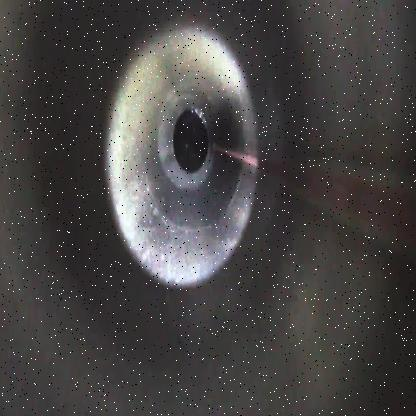NoCrack: (104, 22, 258, 292)
